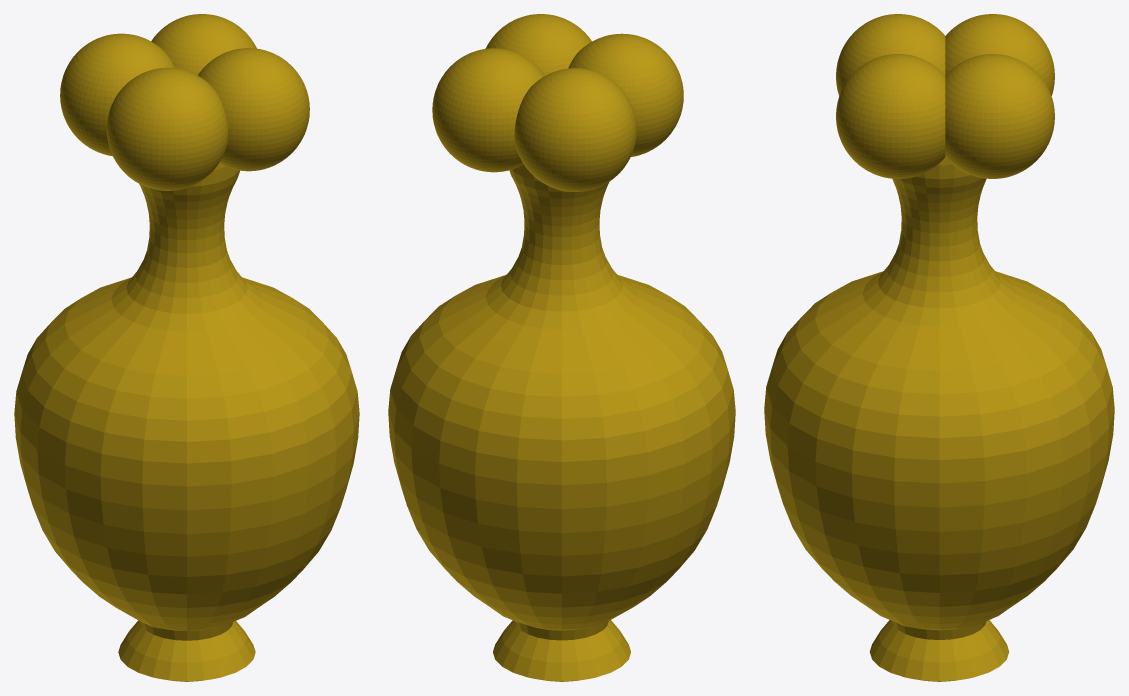
Rendered from JarronDorado.gltf.
3 renders of one model, left to right at view 1: azimuth 30°, elevation 25°; view 2: azimuth 150°, elevation 25°; view 3: azimuth 270°, elevation 25°, orthographic.
Visible parts, largest first — view 1: Sphere003; view 2: Sphere003; view 3: Sphere003.
Part boxes in pixels (x1,y1,x2,y2): Sphere003: [14, 14, 359, 681]; Sphere003: [388, 14, 735, 681]; Sphere003: [764, 14, 1114, 681].
Bounding box in the file's own units: 2.22 × 4.34 × 2.22.
